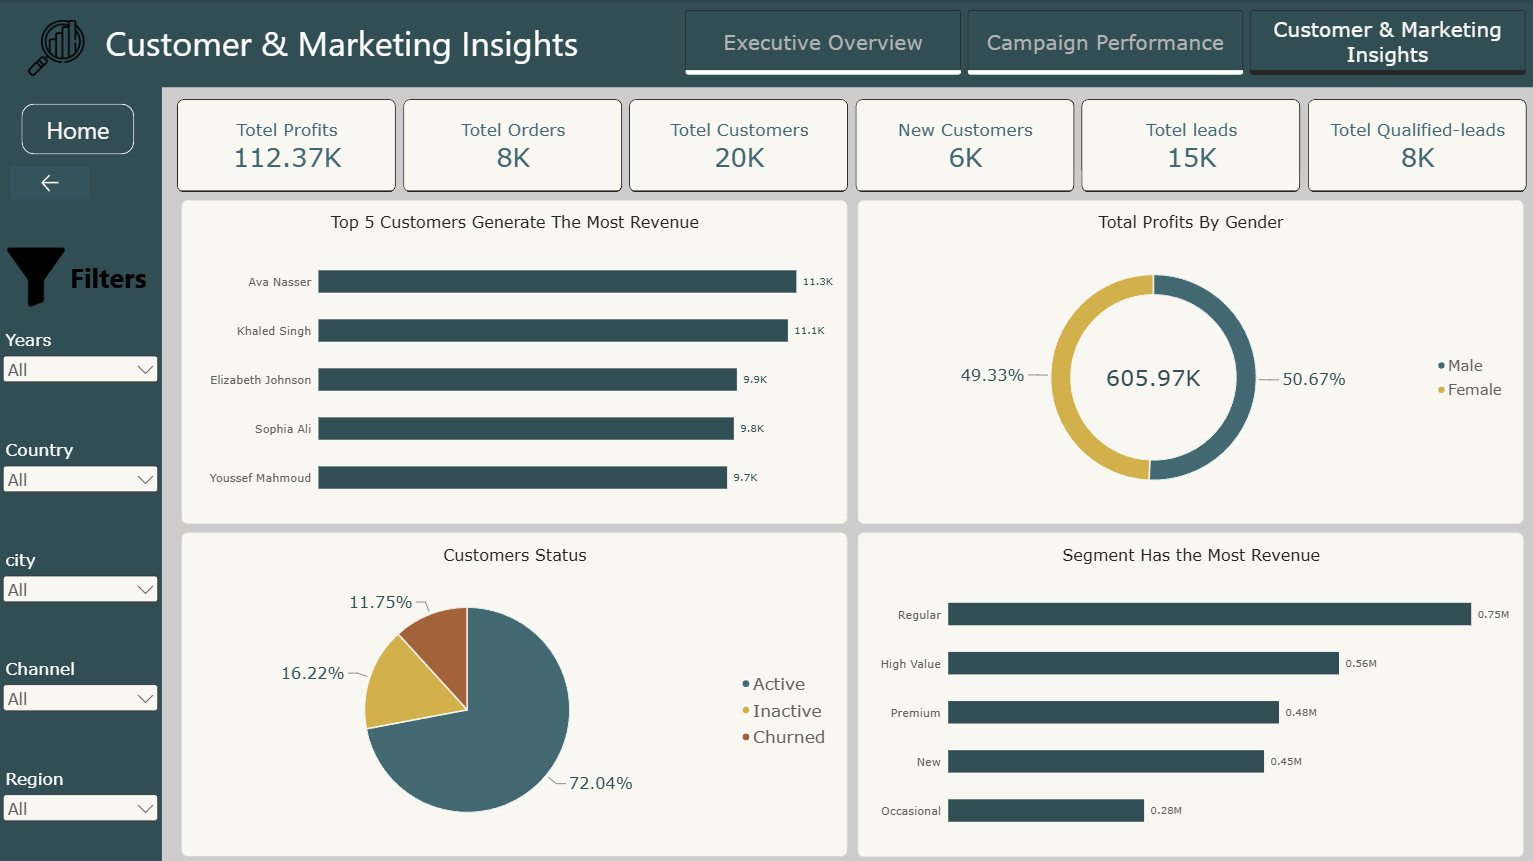

Layout of this report page (visuals, bound fields, positions):
{"tool":"powerbi","page":{"name":"Customer & Marketing Insights","canvas":[1920,1080],"ordinal":3},"visuals":[{"type":"shape","box":[0,0,1920,109.1],"z":0},{"type":"shape","box":[0,93.7,203.5,985.2],"z":1000},{"type":"shape","box":[85.5,14,683.7,76.7],"z":2000},{"type":"image","box":[22.7,24.4,95.9,69.8],"z":3000},{"type":"image","box":[8.7,307,73.3,76.7],"z":4000},{"type":"shape","box":[79.2,309.8,113.5,70.2],"z":5000},{"type":"cardVisual","fields":{"Data":["Measure.Totel Profits","Measure.Totel Orders","Measure.Totel Customers","Measure.New Customers","Measure.Totel leads","Measure.Totel Qualified-leads"]},"box":[221.5,122.5,1685.9,117.1],"z":6000},{"type":"slicer","fields":{"Values":["Date.Year"]},"box":[0,410.7,203.5,82.9],"z":7000},{"type":"slicer","fields":{"Values":["Geography.Region"]},"box":[0,956.4,203.5,84.7],"z":8000},{"type":"slicer","fields":{"Values":["Geography.Country"]},"box":[0,547.5,203.5,82.9],"z":9000},{"type":"slicer","fields":{"Values":["Channel.ChannelName"]},"box":[0,819.5,203.5,84.7],"z":10000},{"type":"slicer","fields":{"Values":["Geography.City"]},"box":[0,684.4,203.5,82.9],"z":11000},{"type":"actionButton","box":[14.4,207.1,99.1,41.4],"z":12000},{"type":"shape","box":[28.8,129.7,140.5,63],"z":13000},{"type":"pageNavigator","box":[855.5,12.6,1048.3,81.1],"z":14000},{"type":"pieChart","title":"Customers Status","fields":{"Category":["Customer.CustomerStatus"],"Y":["Measure.Totel Customers"]},"box":[228.4,664.5,830,404],"z":15000},{"type":"clusteredBarChart","title":"Top 5 Customers Generate The Most Revenue","fields":{"Category":["Customer.Full Name"],"Y":["Sum(Marketing.Totel Revenue)"]},"box":[228.4,249.4,830,404],"z":16000},{"type":"donutChart","title":"Total Profits By Gender","fields":{"Category":["Customer.Gender"],"Y":["Measure.Totel Profits"]},"box":[1070.8,249.4,830,404],"z":17000},{"type":"clusteredBarChart","title":"Segment Has the Most Revenue","fields":{"Category":["Customer.CustomerSegment"],"Y":["Sum(Marketing.Totel Revenue)"]},"box":[1070.8,664.5,830.2,404.7],"z":18000}]}

Visuals, with their boxes in screenshot pixels (x1, y1, x2, y2), scaled from the page's 1920x1080 canvas onto the 1533x861 screenshot:
shape: box(0, 0, 1532, 87)
shape: box(0, 75, 162, 860)
shape: box(68, 11, 614, 72)
image: box(18, 19, 95, 75)
image: box(7, 245, 65, 306)
shape: box(63, 247, 154, 303)
cardVisual - Measure.Totel Profits x Measure.Totel Orders: box(177, 98, 1523, 191)
slicer - Date.Year: box(0, 327, 162, 394)
slicer - Geography.Region: box(0, 762, 162, 830)
slicer - Geography.Country: box(0, 436, 162, 503)
slicer - Channel.ChannelName: box(0, 653, 162, 721)
slicer - Geography.City: box(0, 546, 162, 612)
actionButton: box(11, 165, 91, 198)
shape: box(23, 103, 135, 154)
pageNavigator: box(683, 10, 1520, 75)
"Customers Status" pieChart: box(182, 530, 845, 852)
"Top 5 Customers Generate The Most Revenue" clusteredBarChart: box(182, 199, 845, 521)
"Total Profits By Gender" donutChart: box(855, 199, 1518, 521)
"Segment Has the Most Revenue" clusteredBarChart: box(855, 530, 1518, 852)
